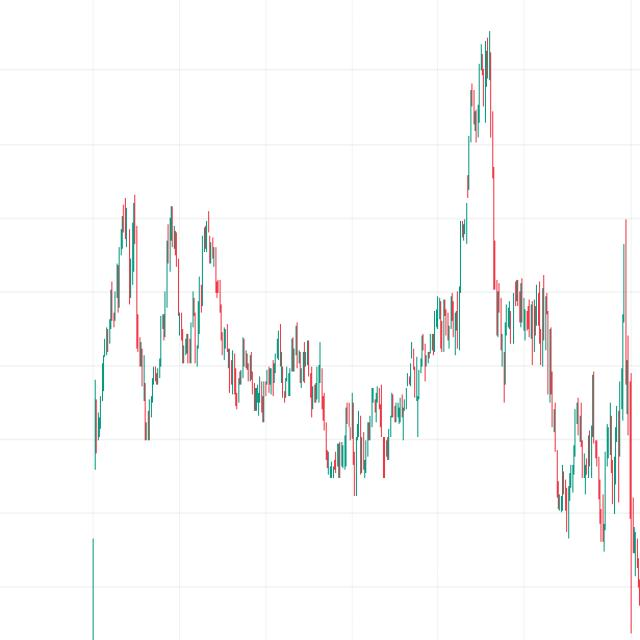Triple-Top: (86, 189, 234, 395)
